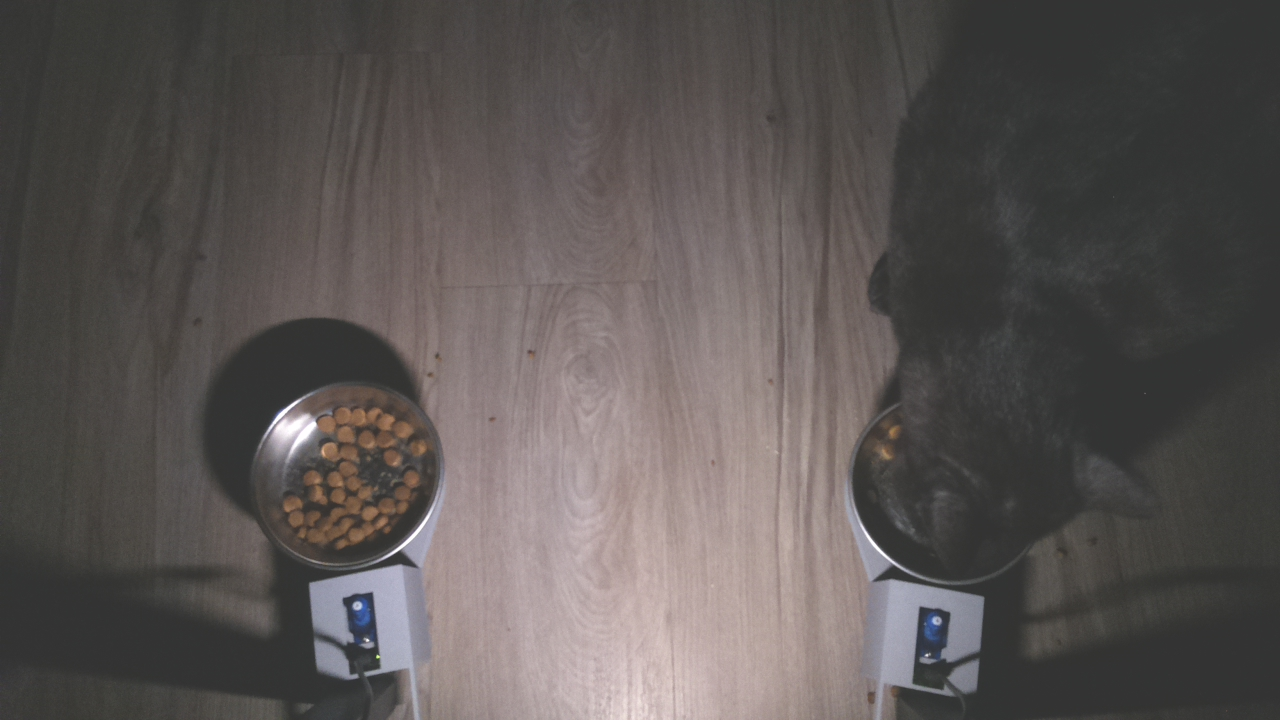open_bowl: (243, 379, 475, 575)
saki_eating: (845, 349, 1169, 603)
